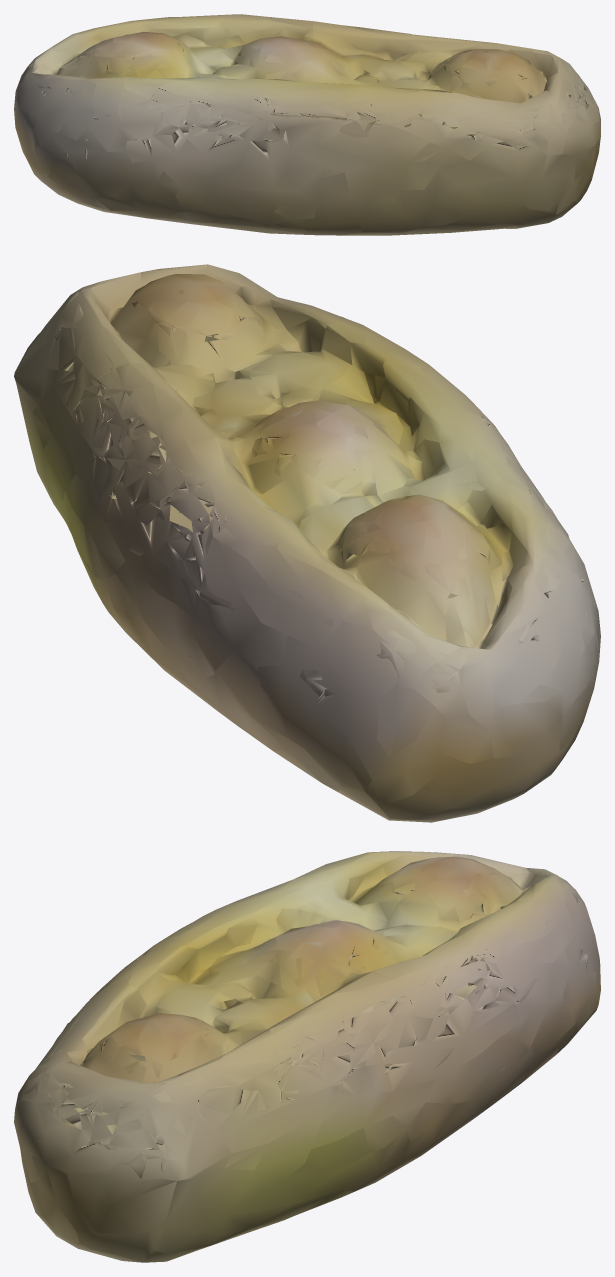
File: 0007_mask_008_toy_baguette.glb
3 views of the same model, one above another, from view 1: azimuth 30°, elevation 25°; view 2: azimuth 150°, elevation 25°; view 3: azimuth 270°, elevation 25° (orthographic). The views are drawn at different scales.
Visible parts, largest first — view 1: mask_008_object; view 2: mask_008_object; view 3: mask_008_object.
Part boxes in pixels (x1,y1,x2,y2): mask_008_object: [14, 14, 600, 235]; mask_008_object: [14, 264, 600, 822]; mask_008_object: [14, 851, 600, 1262].
Size of the model in its own units: 0.3024 by 0.1 by 0.2605.
